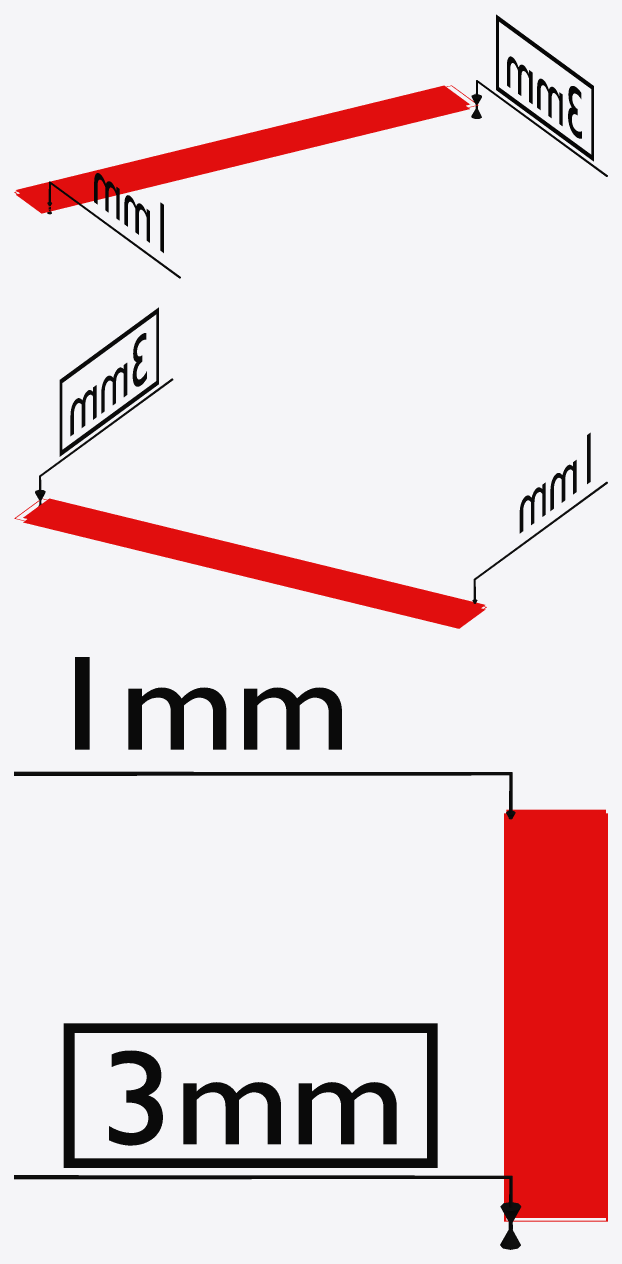
3 views of the same model, one above another, from view 1: azimuth 30°, elevation 25°; view 2: azimuth 150°, elevation 25°; view 3: azimuth 270°, elevation 25° (orthographic). The views are drawn at different scales.
Parts seen in each view (by area): view 1: ZT_localisaiton2, Plane.004, Text.008, Text.007, NurbsPath.008, NurbsPath.009; view 2: ZT_localisaiton2, Plane.004, Text.008, Text.007, NurbsPath.008, NurbsPath.009; view 3: ZT_localisaiton2, Plane.004, Text.008, Text.007, NurbsPath.009, NurbsPath.008.
Boxes of the visible parts, x1,y1,x2,y2 form: ZT_localisaiton2: [14, 85, 478, 213]; Plane.004: [496, 14, 593, 161]; Text.008: [507, 56, 581, 138]; Text.007: [94, 173, 163, 252]; NurbsPath.008: [48, 181, 180, 278]; NurbsPath.009: [475, 80, 607, 176]; ZT_localisaiton2: [14, 498, 486, 628]; Plane.004: [59, 307, 158, 456]; Text.008: [70, 333, 146, 436]; Text.007: [519, 432, 590, 533]; NurbsPath.008: [473, 481, 607, 603]; NurbsPath.009: [39, 378, 173, 504]; ZT_localisaiton2: [504, 809, 607, 1221]; Plane.004: [63, 1023, 437, 1167]; Text.008: [109, 1050, 396, 1145]; Text.007: [75, 657, 341, 749]; NurbsPath.009: [14, 1175, 512, 1230]; NurbsPath.008: [14, 771, 512, 819].
Size of the model in its own units: 4.52 by 1.14 by 2.75.
